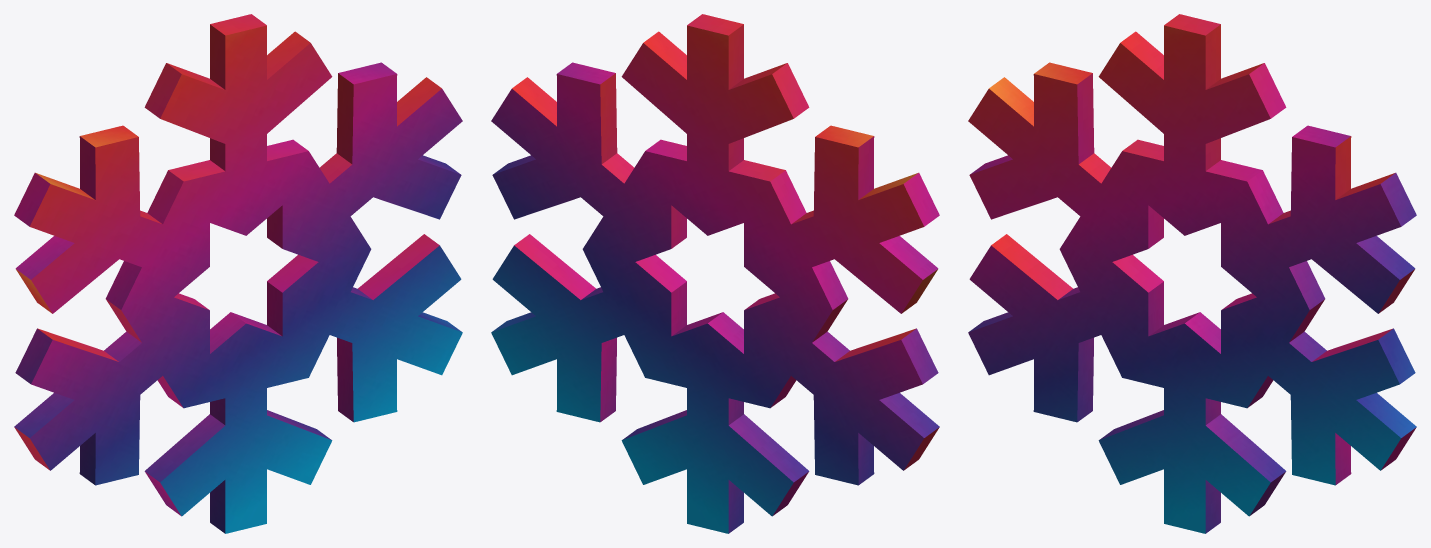
Rendered from Snow Flake.obj.
The picture shows the model from 3 angles, left to right: view 1: azimuth 30°, elevation 25°; view 2: azimuth 150°, elevation 25°; view 3: azimuth 330°, elevation 25°; orthographic projection.
Parts seen in each view (by area): view 1: Plane.000_Plane.009; view 2: Plane.000_Plane.009; view 3: Plane.000_Plane.009.
Part boxes in pixels (x1,y1,x2,y2): Plane.000_Plane.009: [14, 14, 462, 533]; Plane.000_Plane.009: [491, 14, 939, 533]; Plane.000_Plane.009: [968, 14, 1416, 533].
Bounding box in the file's own units: 0.5985 × 0.6578 × 0.0374.
Materials: 1 (1 with a texture image).
